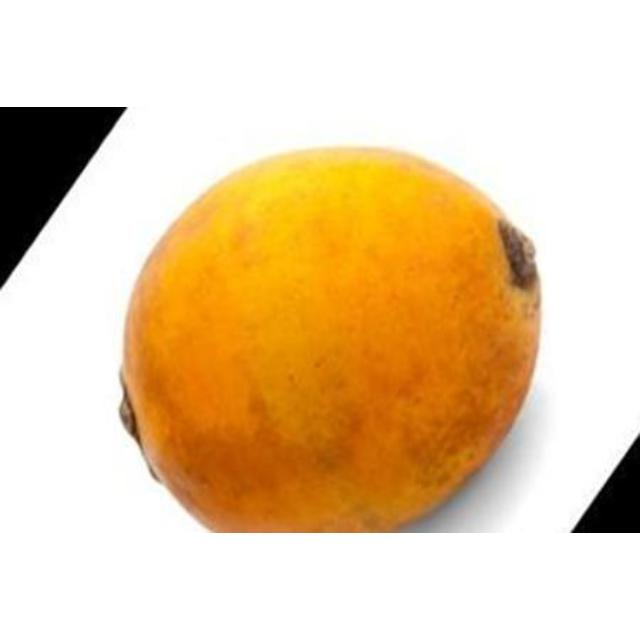good: (119, 147, 543, 532)
